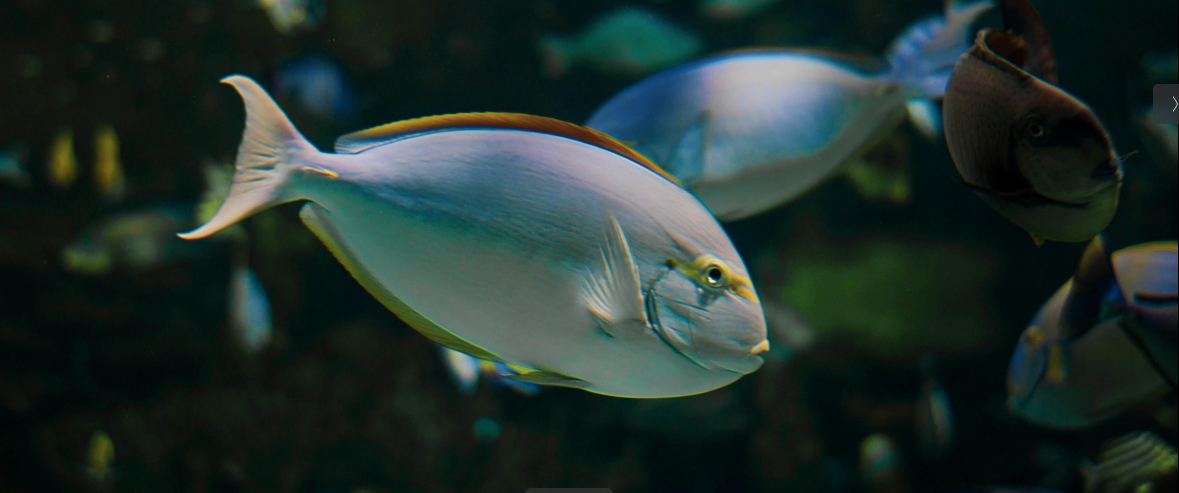fishRound: (176, 74, 769, 402), (584, 11, 972, 222), (1004, 241, 1179, 427)
